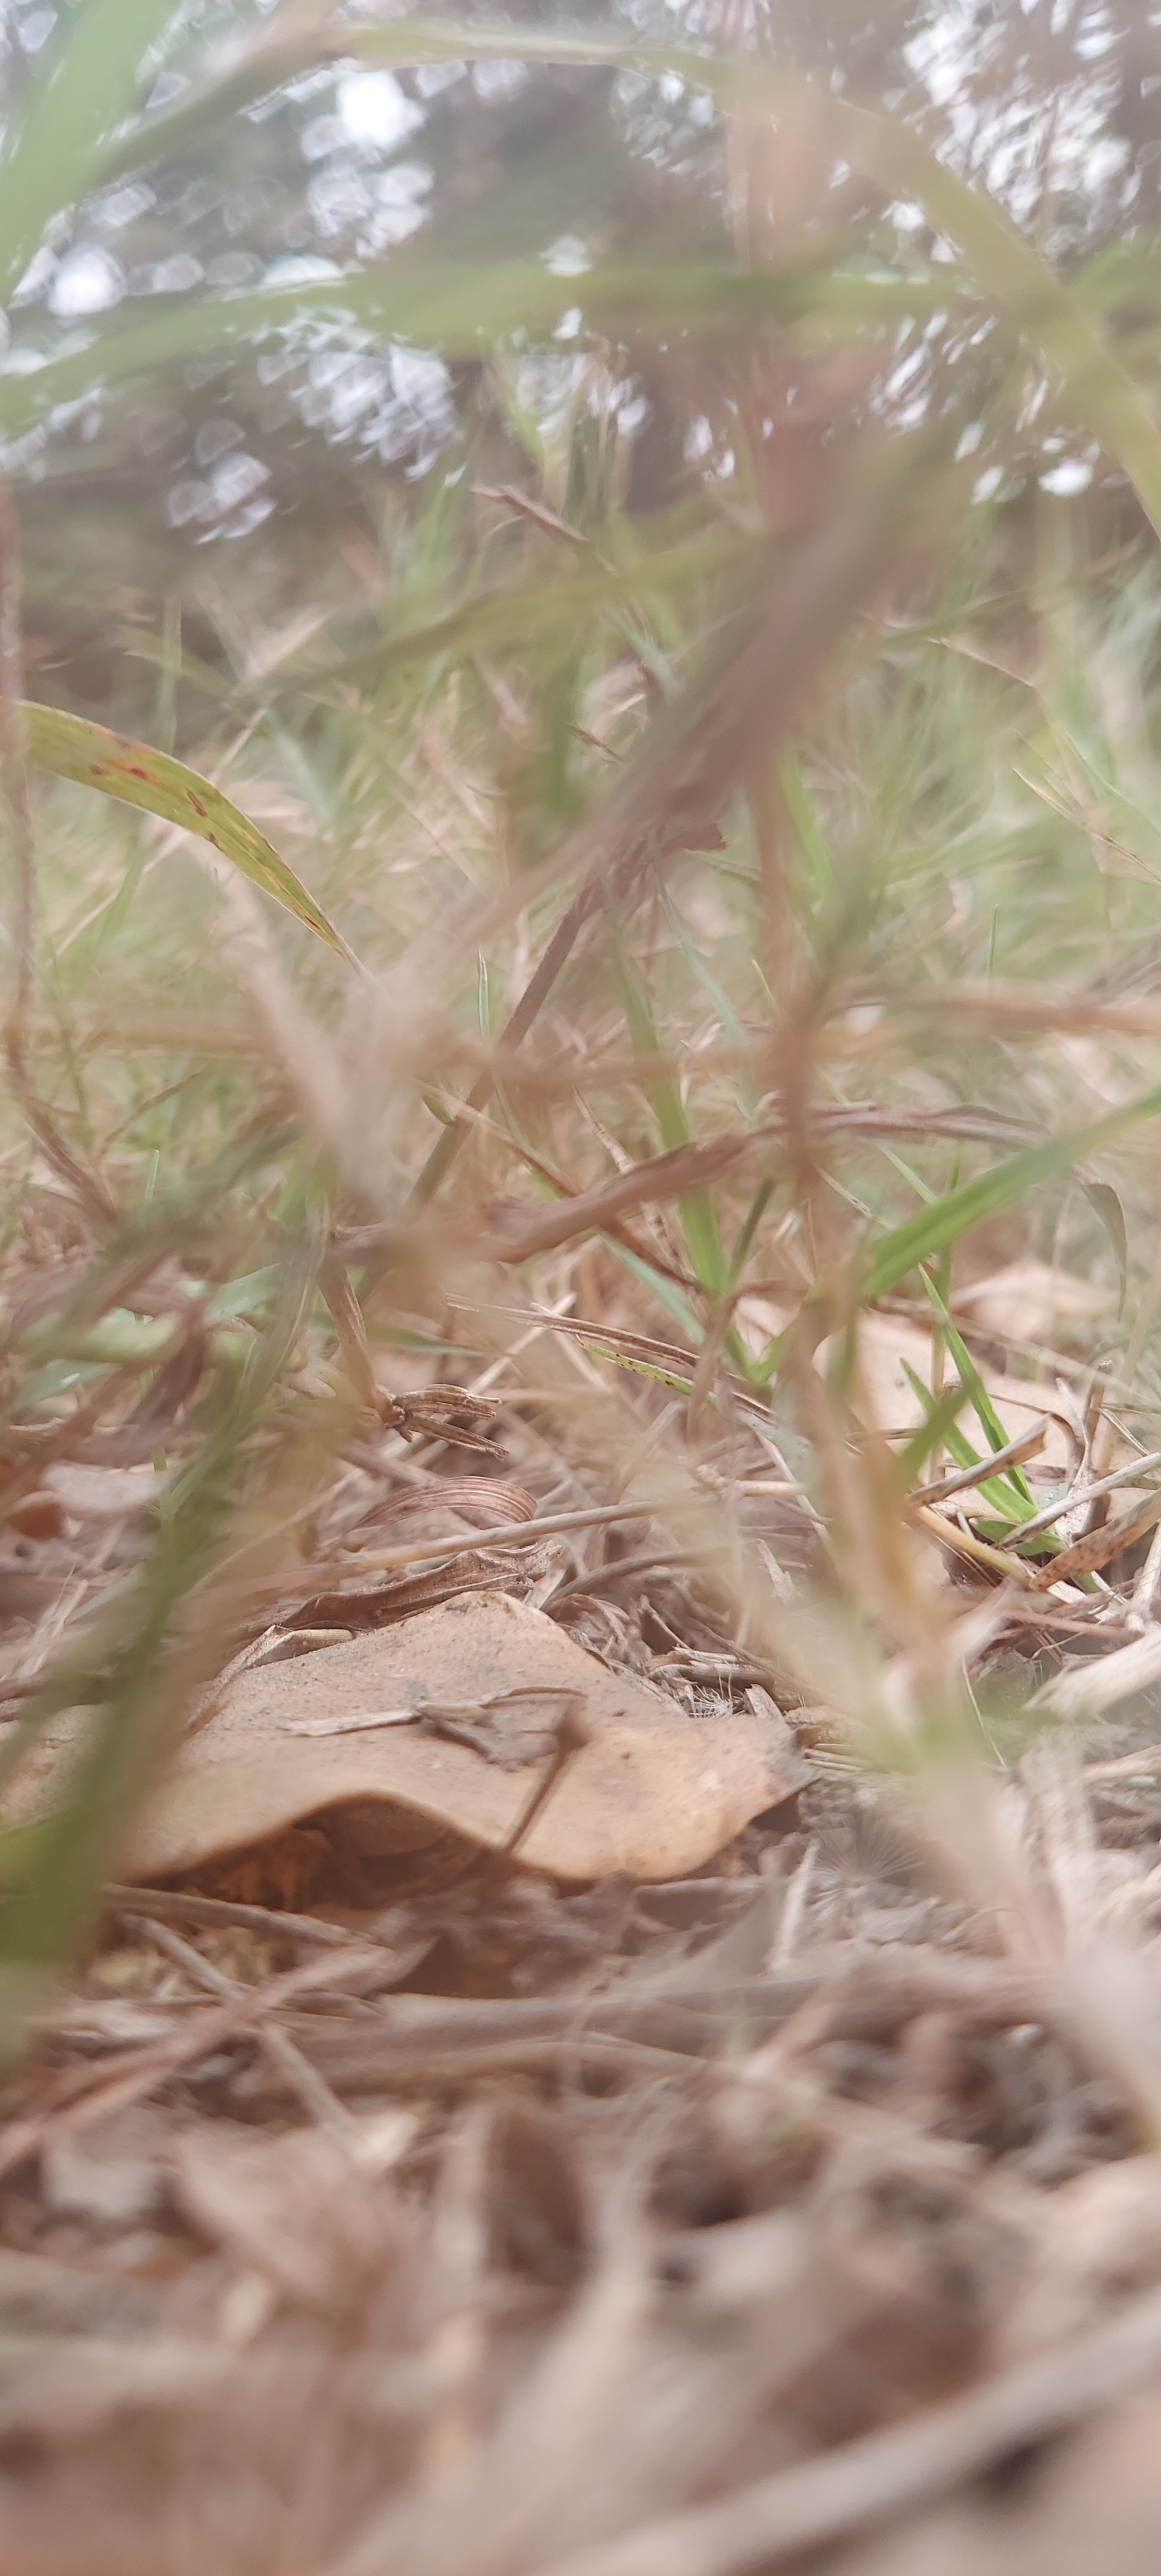Grass: (0, 1221, 1158, 2576)
